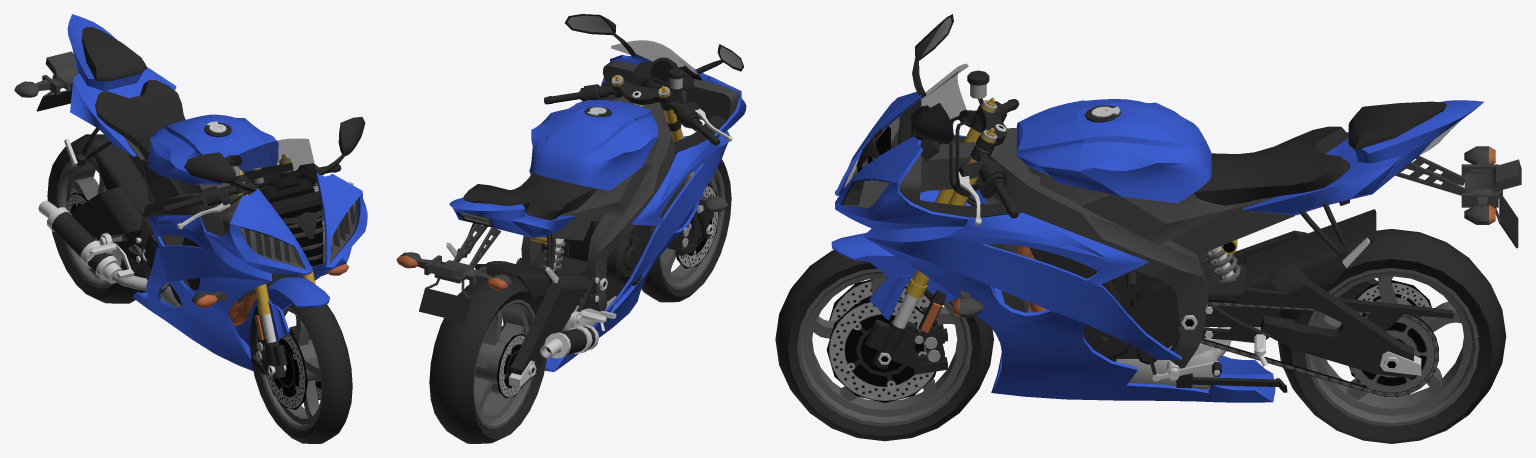
File: yzf-r6_sports_bike.glb
The picture shows the model from 3 angles, left to right: view 1: azimuth 30°, elevation 25°; view 2: azimuth 150°, elevation 25°; view 3: azimuth 270°, elevation 25°; orthographic projection. The views are drawn at different scales.
Visible parts, largest first — view 1: YZF-R6_Body, YZF-R6_Body_W_F, YZF-R6_Body_Fork, YZF-R6_Body_W_R; view 2: YZF-R6_Body, YZF-R6_Body_W_R, YZF-R6_Body_Fork, YZF-R6_Body_W_F; view 3: YZF-R6_Body, YZF-R6_Body_W_R, YZF-R6_Body_W_F, YZF-R6_Body_Fork.
Part boxes in pixels (x1=…): YZF-R6_Body: x1=14, y1=14, x2=367, y2=370; YZF-R6_Body_W_F: x1=249, y1=304, x2=352, y2=443; YZF-R6_Body_Fork: x1=163, y1=154, x2=353, y2=378; YZF-R6_Body_W_R: x1=47, y1=134, x2=146, y2=303; YZF-R6_Body: x1=396, y1=14, x2=746, y2=387; YZF-R6_Body_W_R: x1=429, y1=276, x2=546, y2=443; YZF-R6_Body_Fork: x1=544, y1=68, x2=732, y2=255; YZF-R6_Body_W_F: x1=641, y1=159, x2=731, y2=302; YZF-R6_Body: x1=835, y1=14, x2=1521, y2=402; YZF-R6_Body_W_R: x1=1278, y1=229, x2=1506, y2=443; YZF-R6_Body_W_F: x1=775, y1=250, x2=993, y2=441; YZF-R6_Body_Fork: x1=831, y1=70, x2=1019, y2=374.
Bounding box in the file's own units: 0.7479 × 1.13 × 2.03.
Materials: 7 (4 with a texture image).
